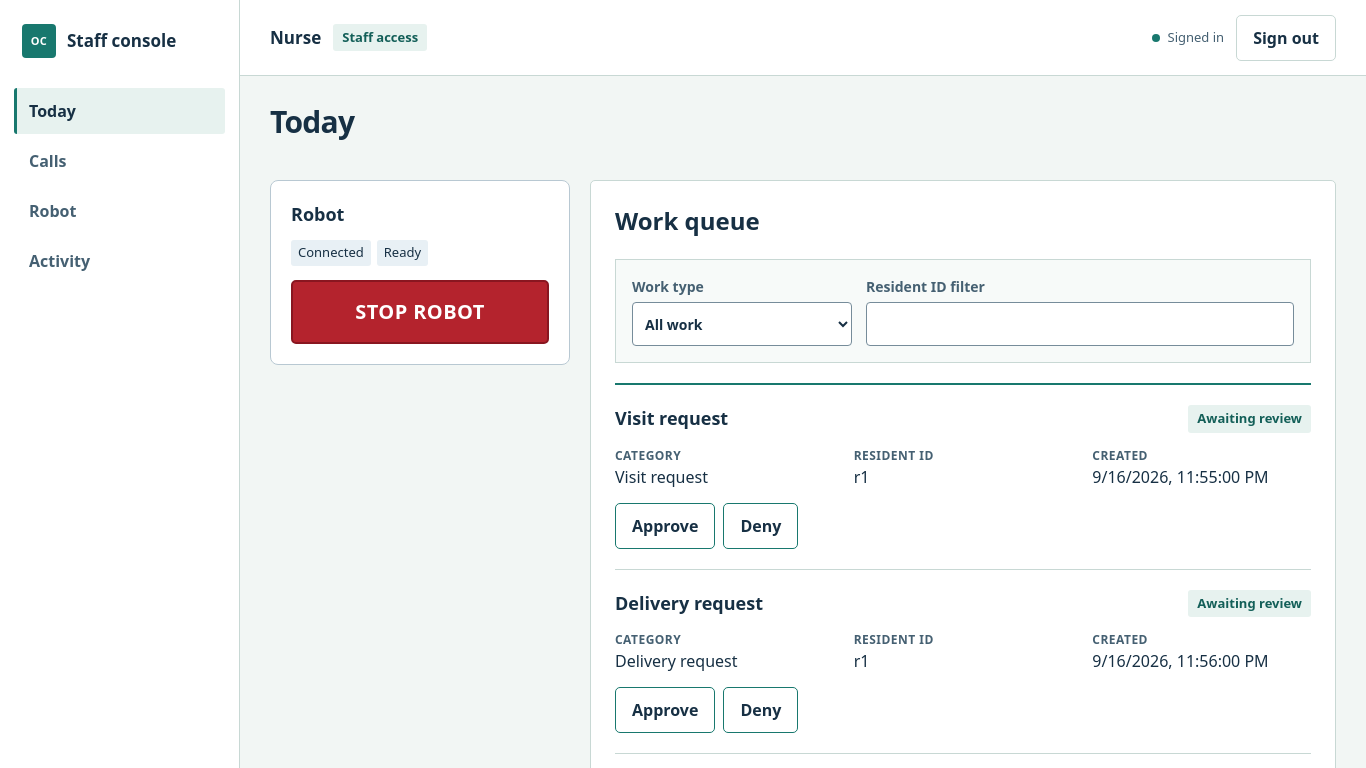
Test: navweb heartbeat succeeded has a localized staff navigation status
Click the button "Robot". click: (120, 211)
box: [14,188,225,234]
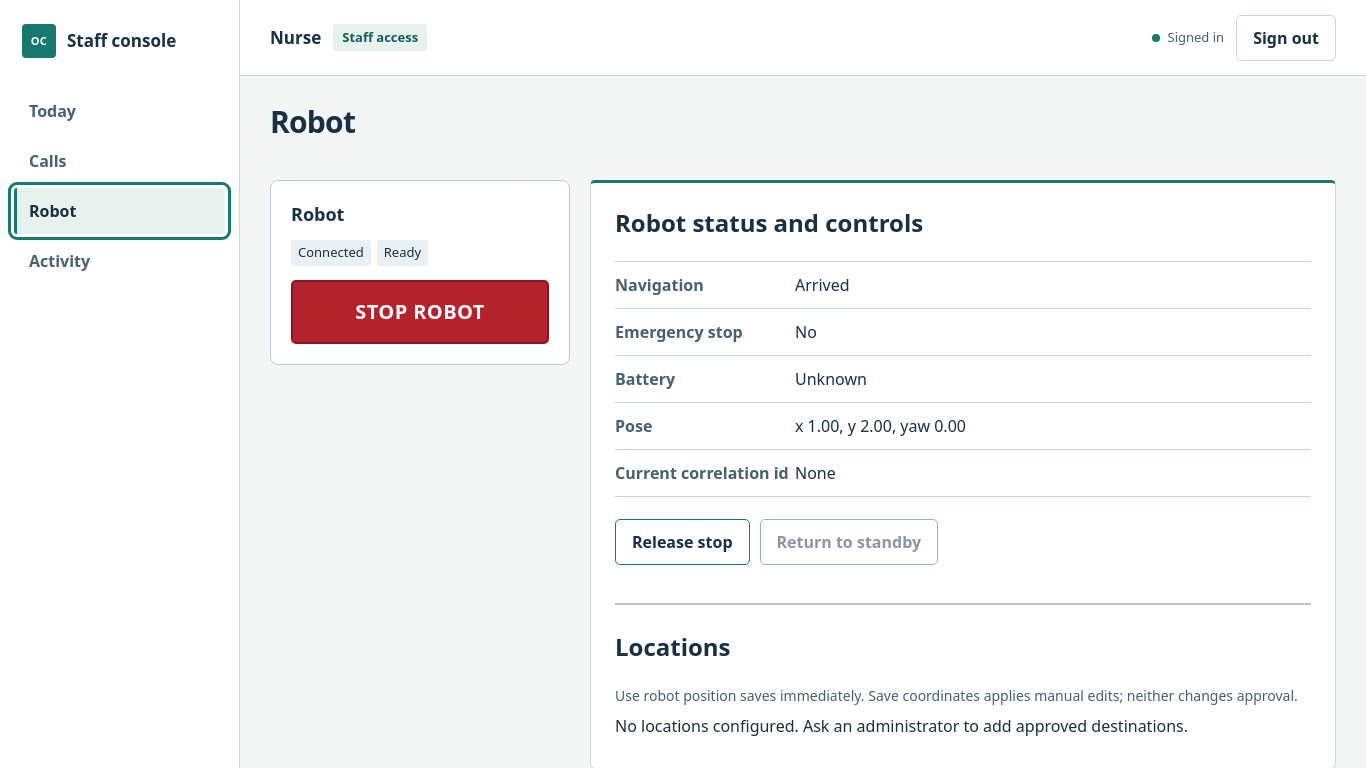
Result: the text "Arrived" is shown at [795,262,1311,309]
